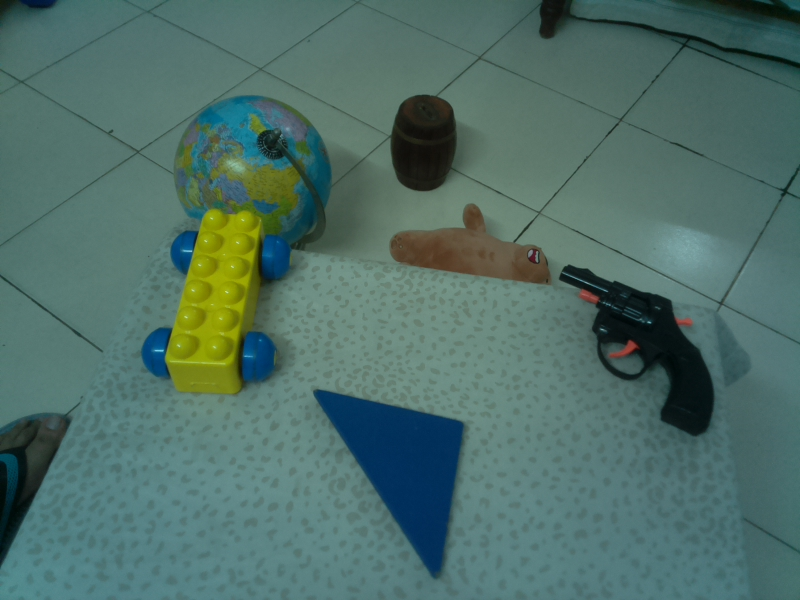Gun: (554, 261, 719, 439)
Triangle: (309, 386, 470, 582)
toy_Car: (141, 207, 292, 398)
